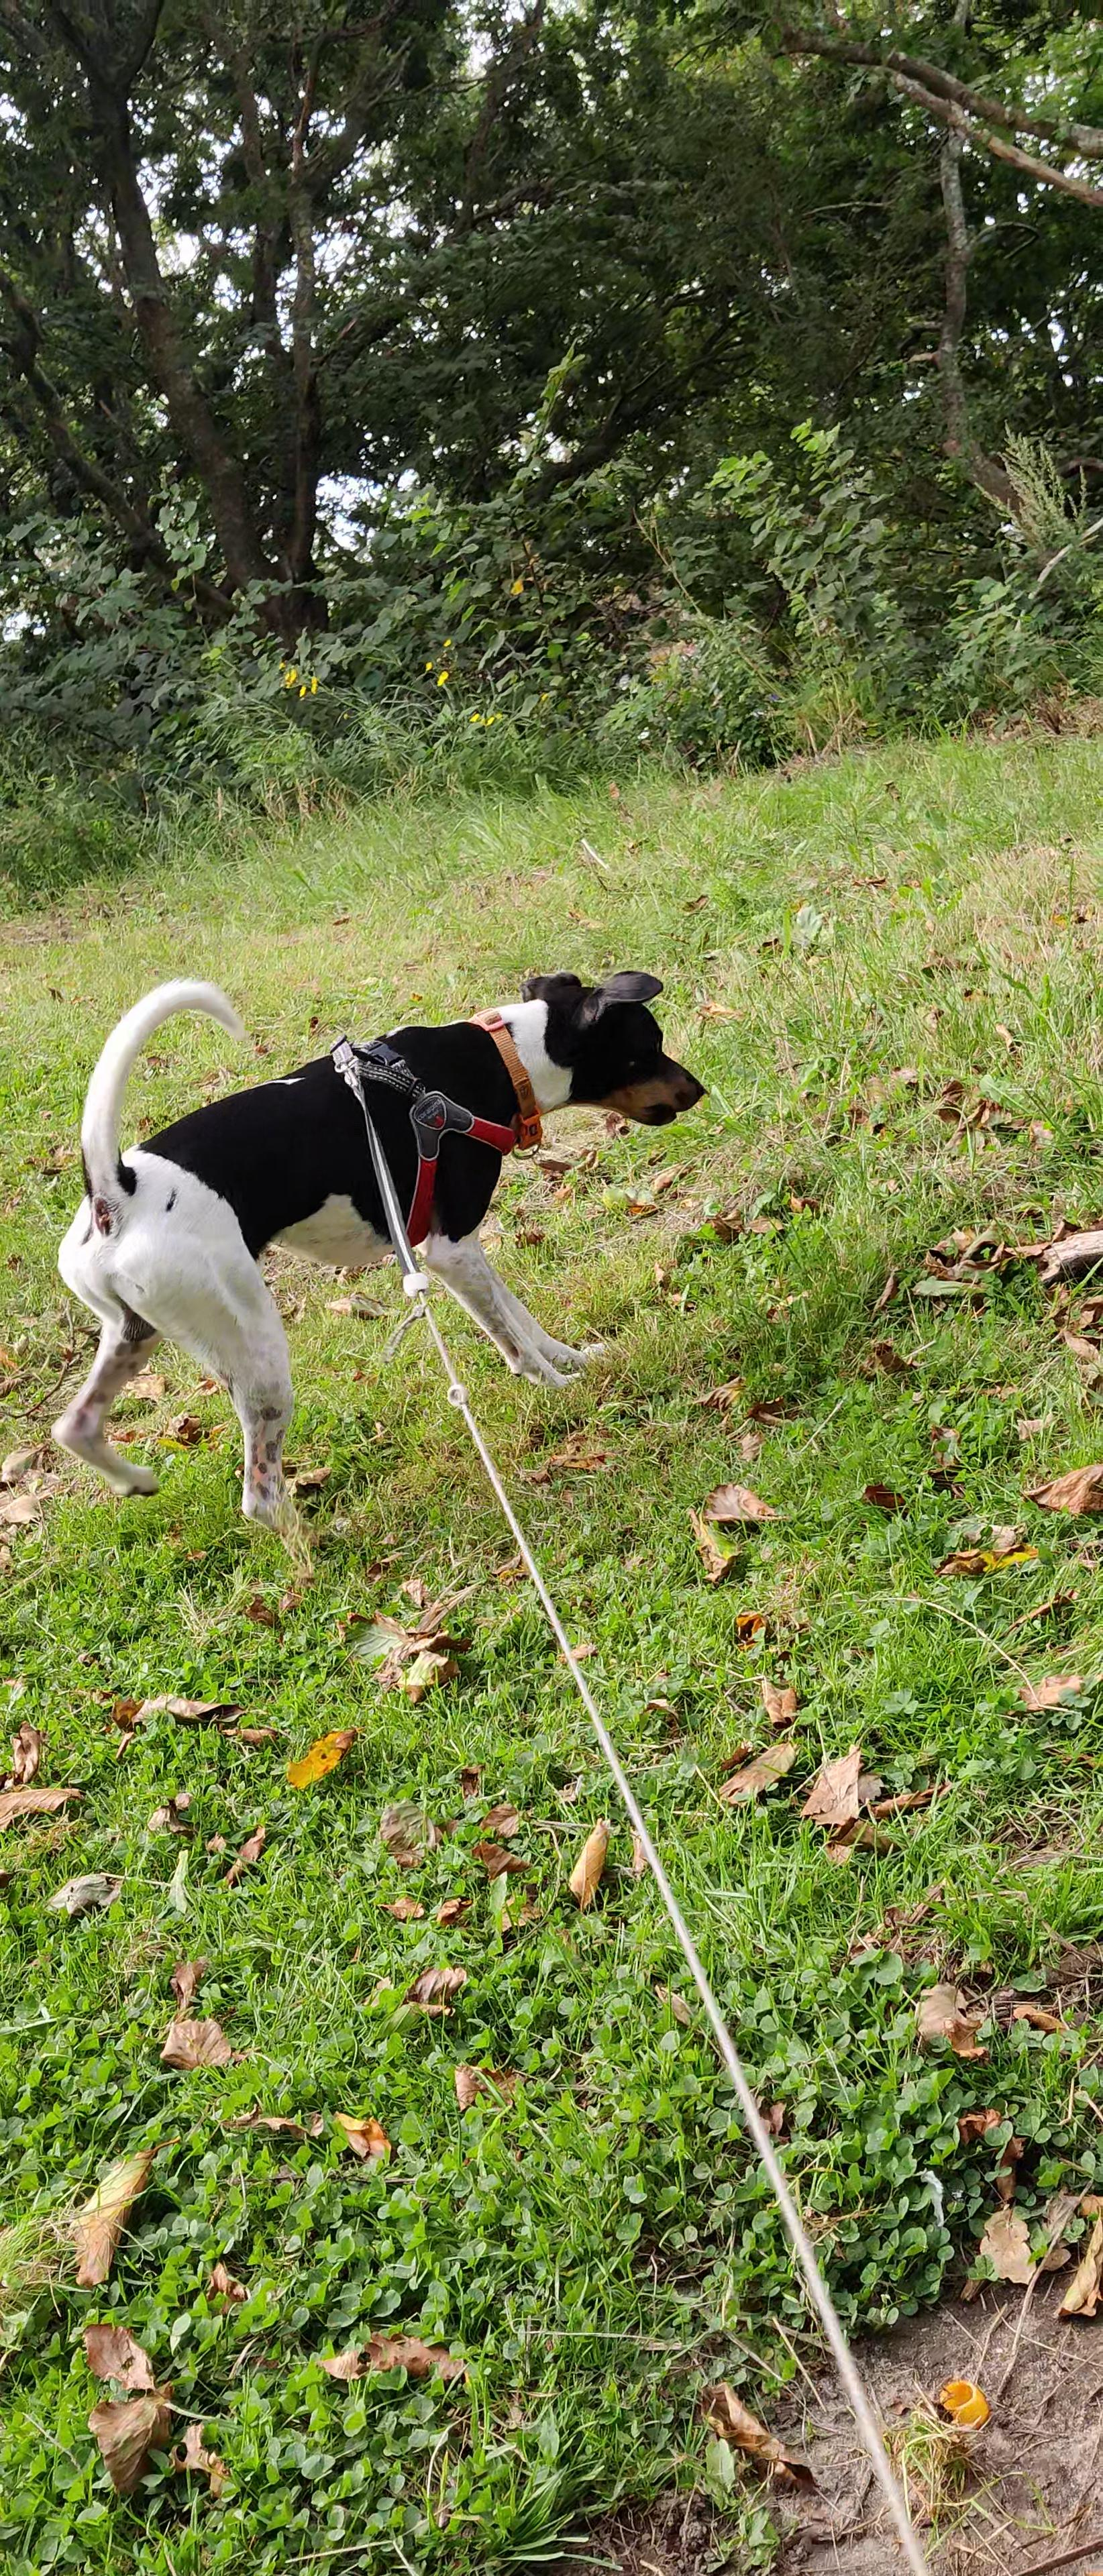Dog: (28, 959, 720, 1549)
